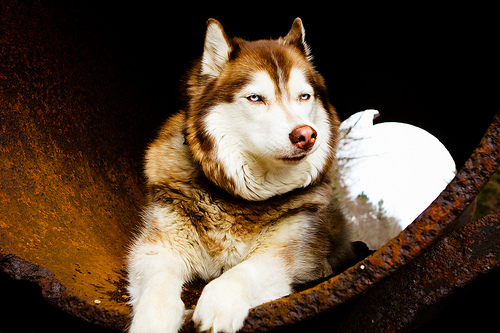dog: (120, 14, 355, 332)
